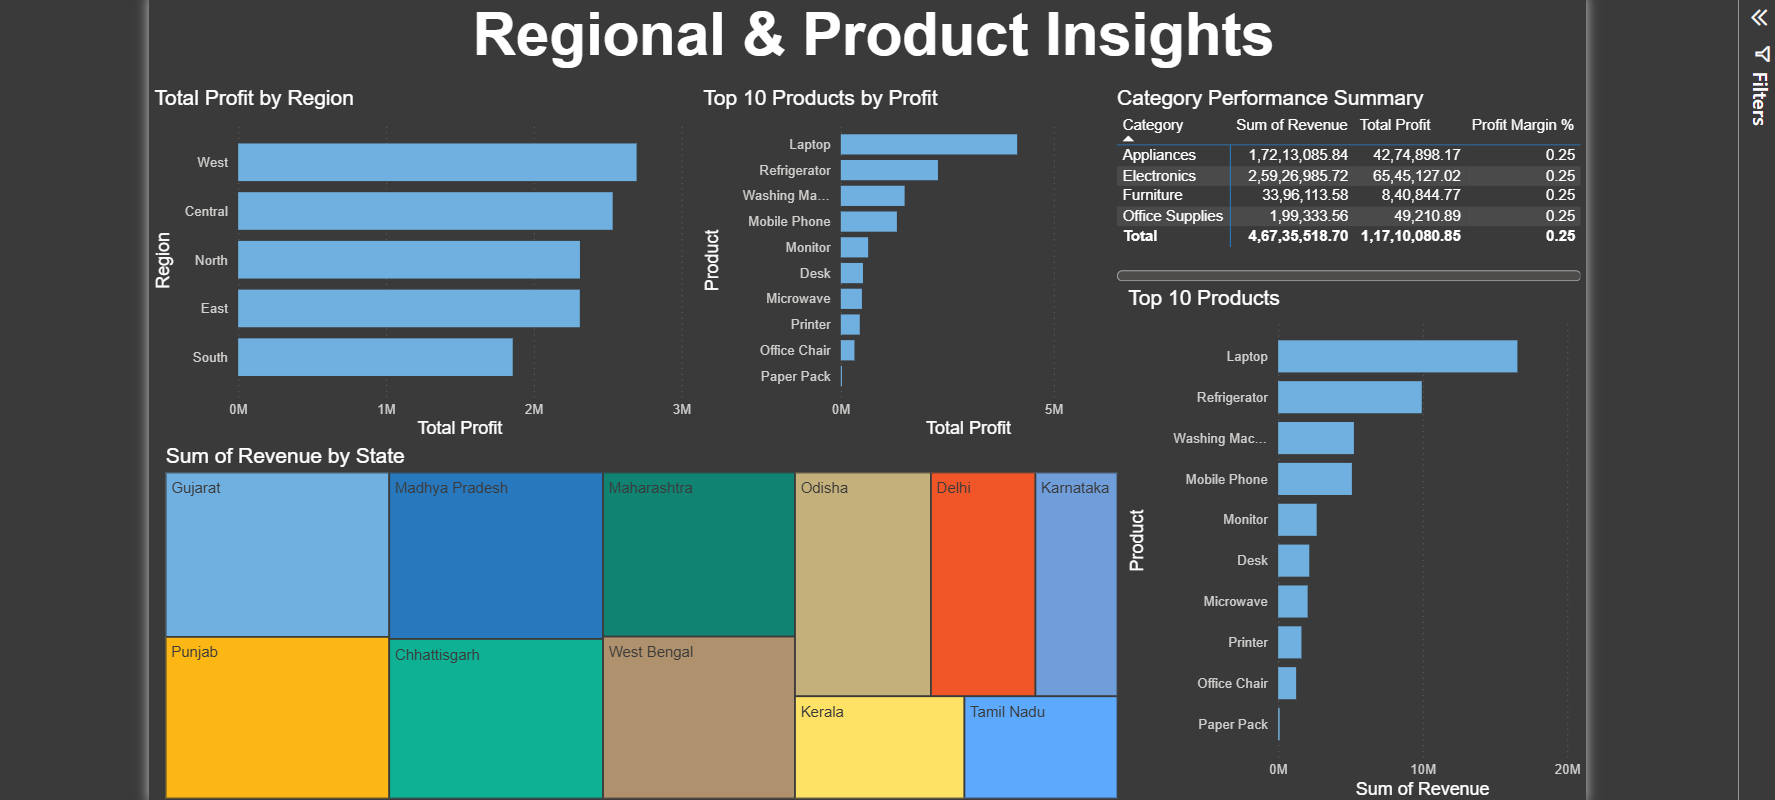

What the dashboard file says about the page in this screenshot:
{"tool":"powerbi","page":{"name":"Page 3","canvas":[1280,720],"ordinal":2},"visuals":[{"type":"textbox","box":[9.6,0,1270.7,81],"z":0},{"type":"treemap","fields":{"Group":["regional_sales_dataset.State"],"Values":["Sum(regional_sales_dataset.Revenue)"]},"box":[9.6,399.3,857.6,321.1],"z":1000},{"type":"barChart","fields":{"Category":["regional_sales_dataset.Region"],"Y":["regional_sales_dataset.Total Profit"]},"box":[0,81,488.5,318.4],"z":2000},{"type":"barChart","title":"Top 10 Products","fields":{"Category":["regional_sales_dataset.Product"],"Y":["Sum(regional_sales_dataset.Revenue)"]},"box":[867.2,259.3,413,461.1],"z":3000},{"type":"pivotTable","title":"Category Performance Summary","fields":{"Rows":["regional_sales_dataset.Category"],"Values":["Sum(regional_sales_dataset.Revenue)","regional_sales_dataset.Total Profit","regional_sales_dataset.Profit Margin %"]},"box":[857.6,81,422.6,178.4],"z":4000},{"type":"barChart","title":"Top 10 Products by Profit","fields":{"Category":["regional_sales_dataset.Product"],"Y":["regional_sales_dataset.Total Profit"]},"box":[488.5,81,369.1,318.4],"z":5000}]}

Visuals, with their boxes on the page's 1280x720 design canvas (x1, y1, x2, y2). These are canvas units, not pixel positions in the 1775x800 screenshot, which may show the page scaled, cropped or inside an application window:
textbox: [left=10, top=0, right=1280, bottom=81]
treemap - regional_sales_dataset.State x Sum(regional_sales_dataset.Revenue): [left=10, top=399, right=867, bottom=720]
barChart - regional_sales_dataset.Region x regional_sales_dataset.Total Profit: [left=0, top=81, right=488, bottom=399]
"Top 10 Products" barChart: [left=867, top=259, right=1280, bottom=720]
"Category Performance Summary" pivotTable: [left=858, top=81, right=1280, bottom=259]
"Top 10 Products by Profit" barChart: [left=488, top=81, right=858, bottom=399]
